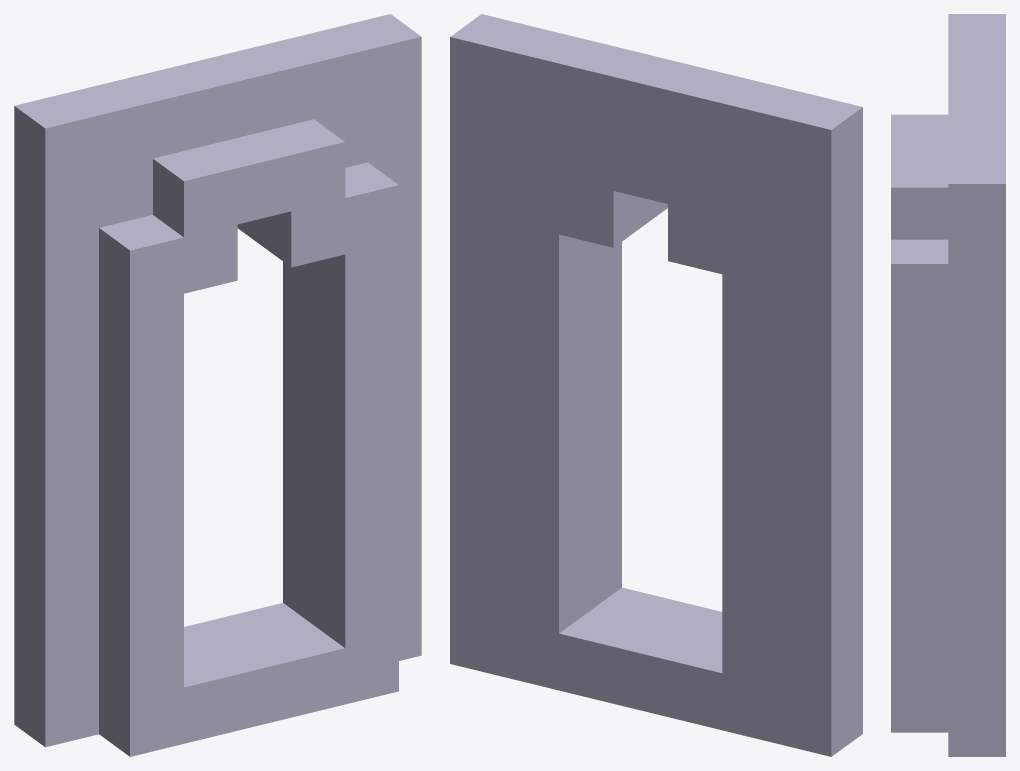
File: Arch4.obj
The picture shows the model from 3 angles, left to right: view 1: azimuth 30°, elevation 25°; view 2: azimuth 150°, elevation 25°; view 3: azimuth 270°, elevation 25°; orthographic projection. The views are drawn at different scales.
Parts seen in each view (by area): view 1: BuildingPieces.004; view 2: BuildingPieces.004; view 3: BuildingPieces.004.
Boxes of the visible parts, x1,y1,x2,y2 form: BuildingPieces.004: (14,14,421,756); BuildingPieces.004: (450,14,862,756); BuildingPieces.004: (891,14,1005,756).
Bounding box in the file's own units: 0.7 × 1.1 × 0.2.
